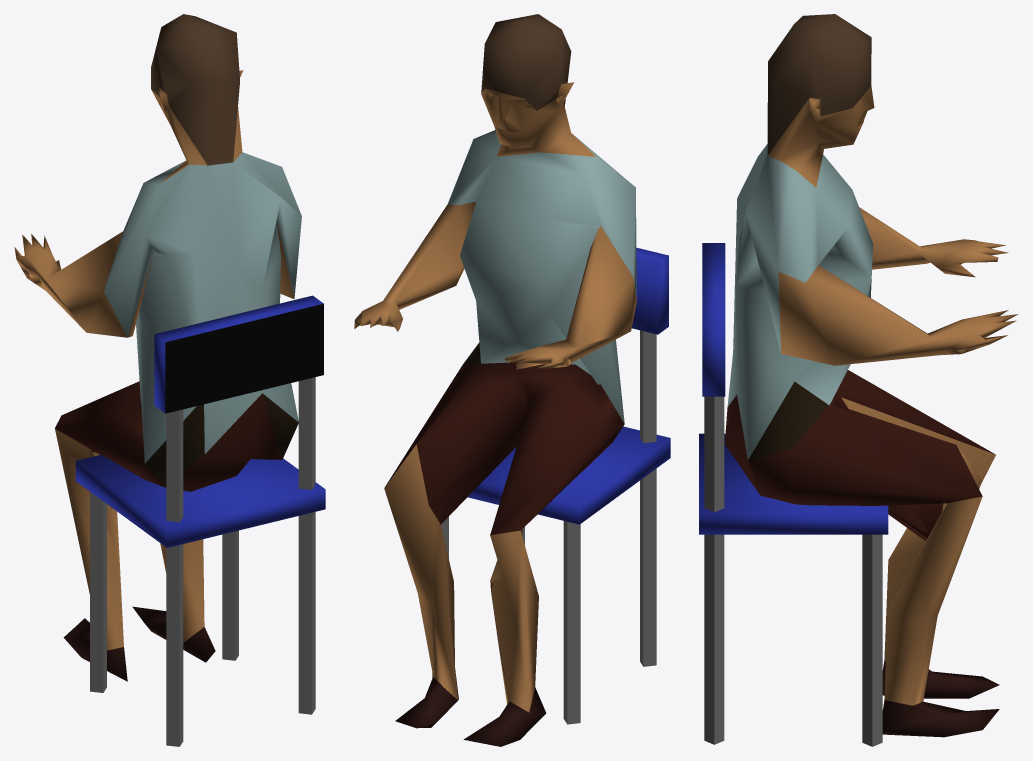
Rendered from personsit2lowpoly.obj.
3 renders of one model, left to right at view 1: azimuth 30°, elevation 25°; view 2: azimuth 150°, elevation 25°; view 3: azimuth 270°, elevation 25°, orthographic. The views are drawn at different scales.
Parts seen in each view (by area): view 1: Cube, Cube.001_Cube.002; view 2: Cube, Cube.001_Cube.002; view 3: Cube, Cube.001_Cube.002.
Part boxes in pixels (x1,y1,x2,y2): Cube: [14, 14, 301, 681]; Cube.001_Cube.002: [75, 295, 325, 746]; Cube: [354, 14, 636, 746]; Cube.001_Cube.002: [432, 247, 670, 724]; Cube: [724, 14, 1018, 737]; Cube.001_Cube.002: [699, 243, 888, 746].
Bounding box in the file's own units: 24.17 × 76.26 × 31.65.
